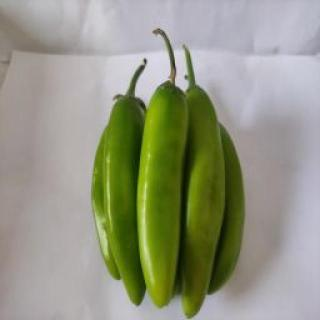Cabai Hijau: (135, 25, 191, 313)
